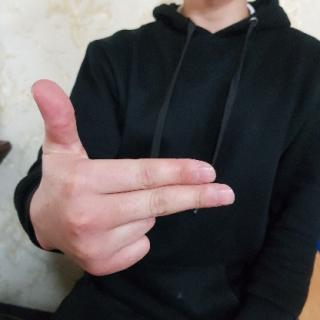GHAYN: (26, 74, 244, 280)
